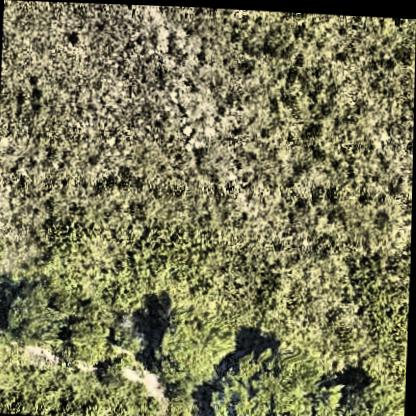tree-top: (217, 344, 315, 416), (156, 317, 235, 388), (0, 291, 62, 366), (62, 312, 111, 364), (342, 380, 396, 416)
